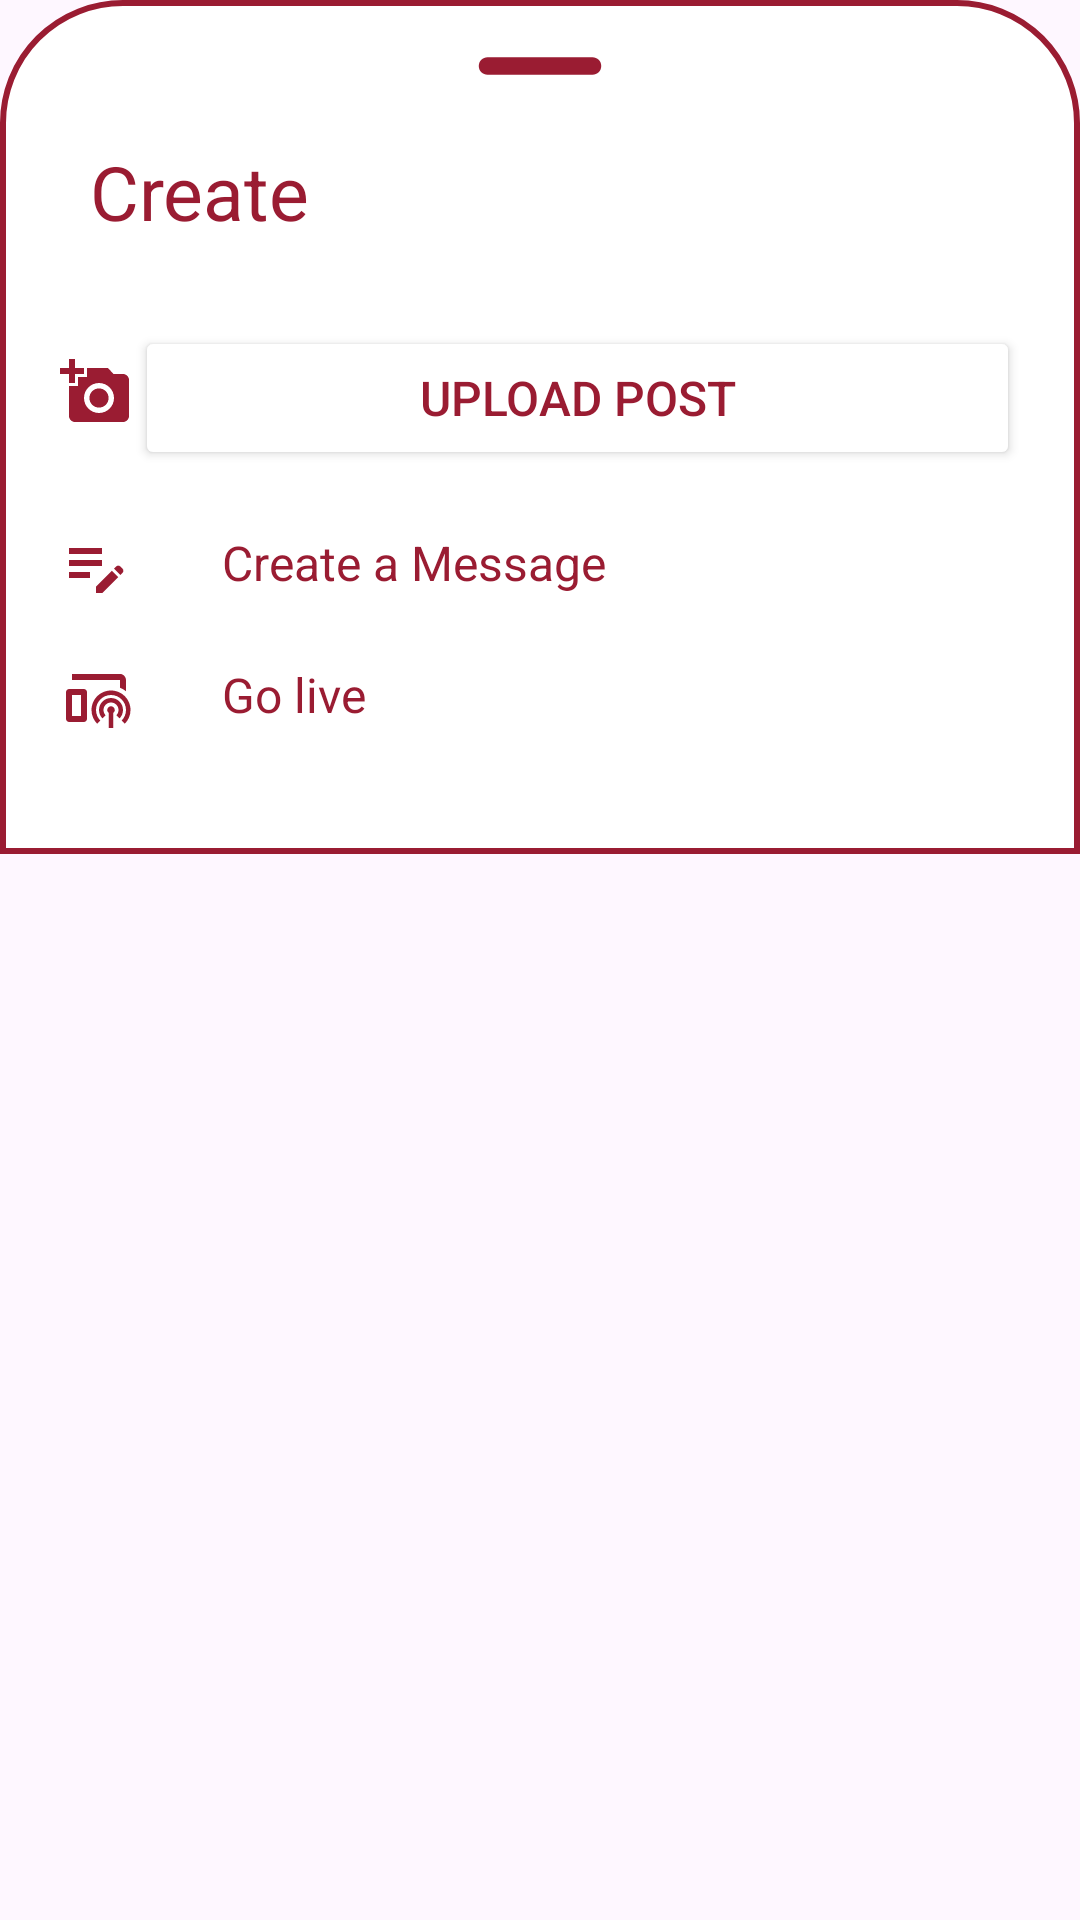

Icon click points for this 1080 × 1920 phone screenshot, format [x,y]:
add photo: [94,390]
broadcast on home: [98,701]
edit note: [96,570]
